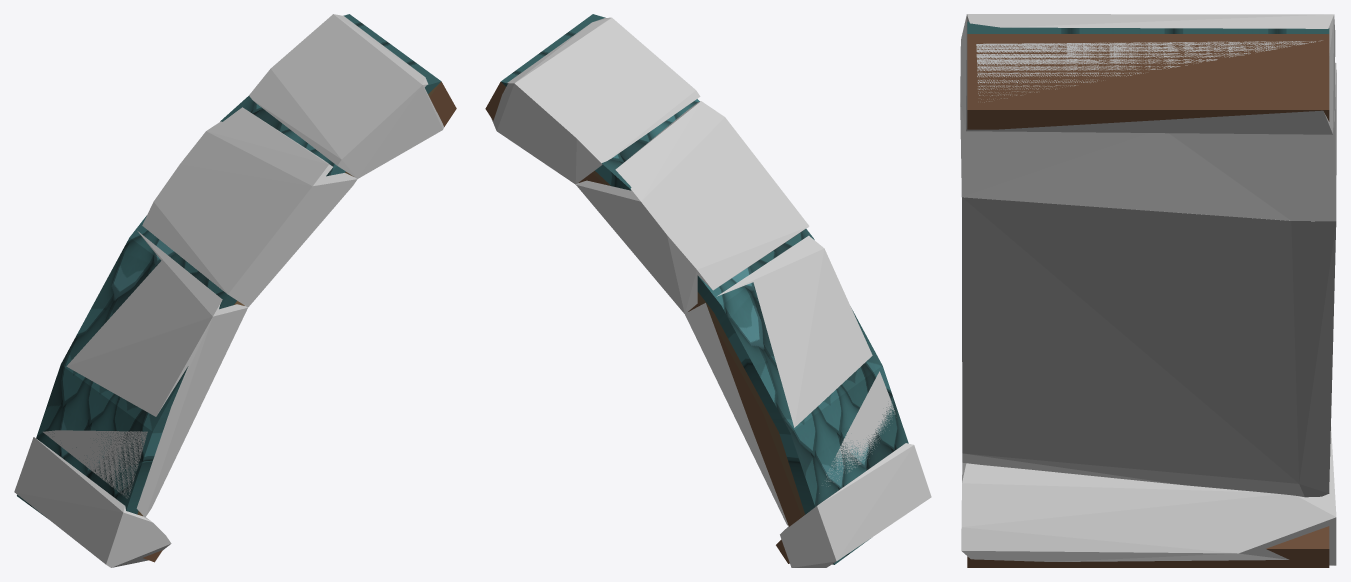
Rendered from SM_Bld_Roof_Convex_Half_01.fbx.
3 views of the same model, side by side, from view 1: azimuth 30°, elevation 25°; view 2: azimuth 150°, elevation 25°; view 3: azimuth 270°, elevation 25° (orthographic). The views are drawn at different scales.
Visible parts, largest first — view 1: SM_Bld_Roof_Convex_Half_01_ConvexHulls, SM_Bld_Roof_Convex_Half_01; view 2: SM_Bld_Roof_Convex_Half_01_ConvexHulls, SM_Bld_Roof_Convex_Half_01; view 3: SM_Bld_Roof_Convex_Half_01_ConvexHulls, SM_Bld_Roof_Convex_Half_01.
Part boxes in pixels (x1,y1,x2,y2): SM_Bld_Roof_Convex_Half_01_ConvexHulls: (14, 14, 443, 567); SM_Bld_Roof_Convex_Half_01: (17, 14, 456, 562); SM_Bld_Roof_Convex_Half_01_ConvexHulls: (491, 17, 931, 567); SM_Bld_Roof_Convex_Half_01: (485, 14, 908, 564); SM_Bld_Roof_Convex_Half_01_ConvexHulls: (960, 14, 1336, 565); SM_Bld_Roof_Convex_Half_01: (967, 21, 1329, 567).
Bounding box in the file's own units: 276 × 130 × 311.
4 materials, 3 textured.
